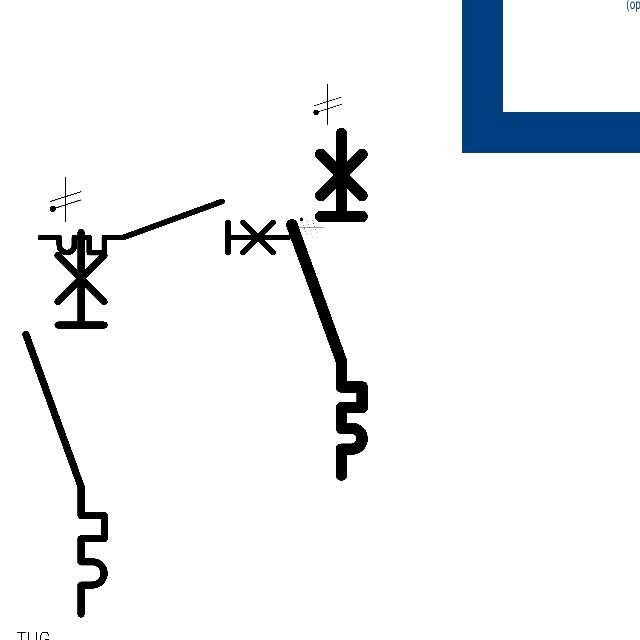interruptor_termomagnetico: (16, 222, 114, 624), (283, 124, 371, 484), (34, 195, 294, 259)
